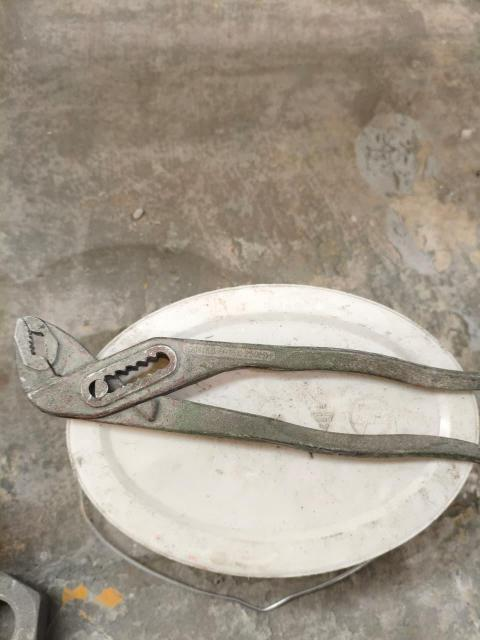Metal: (8, 313, 480, 468)
